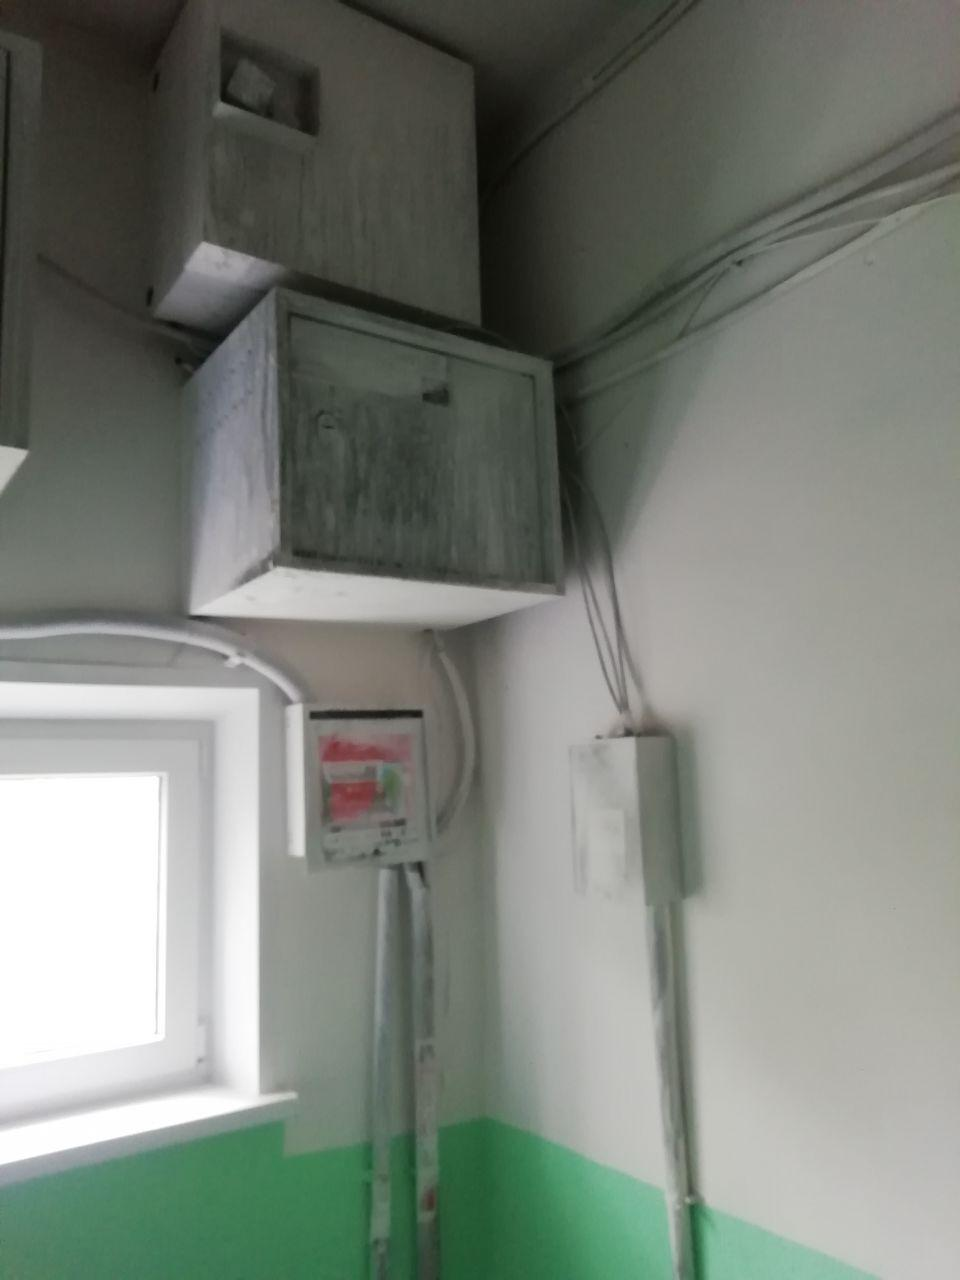shta-9m: (173, 278, 575, 643)
